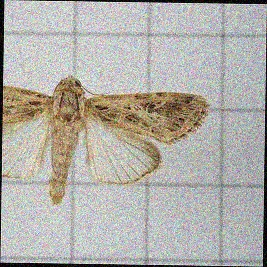Spodoptera litura: (2, 74, 210, 208)
